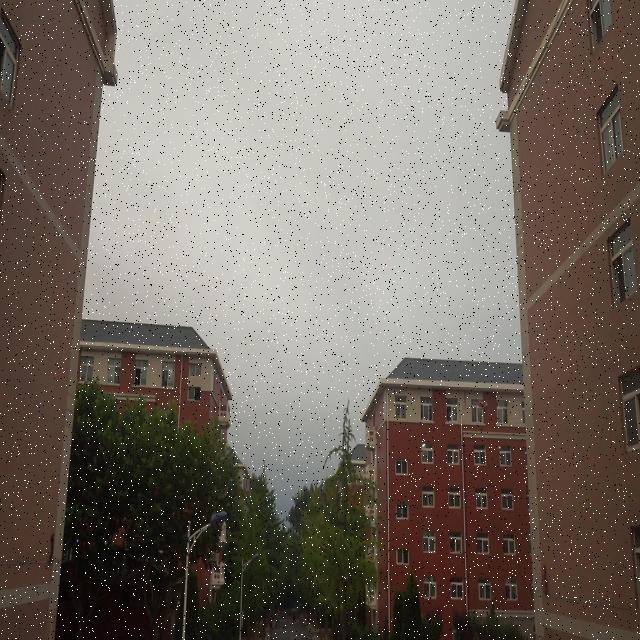UAV: (473, 400, 488, 408)
